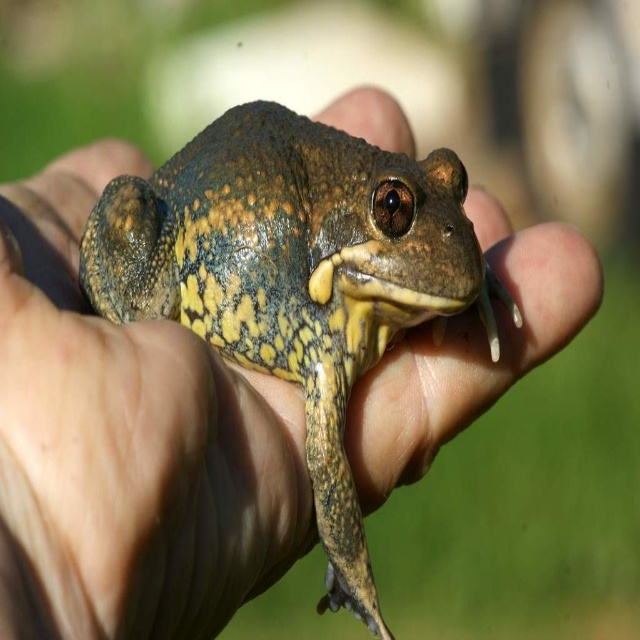Frog: (77, 100, 523, 640)
